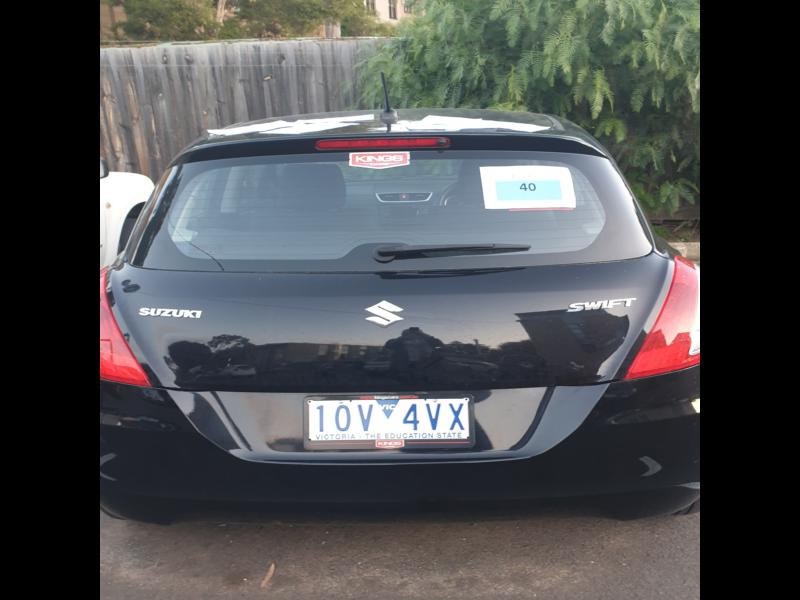BusRun: (493, 175, 565, 201)
PlateNo: (305, 397, 474, 442)
